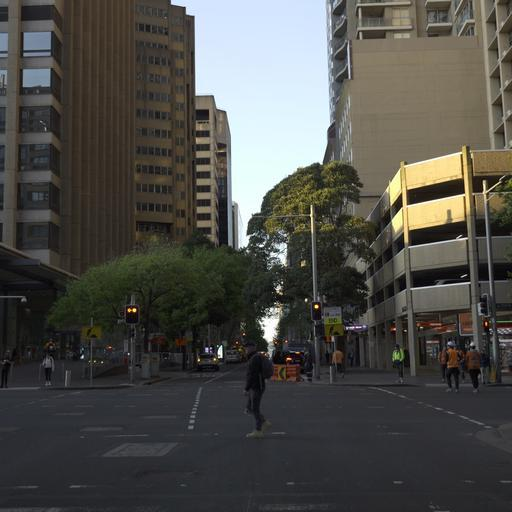Street light: (250, 202, 322, 380), (481, 171, 511, 383), (0, 293, 27, 359), (0, 294, 27, 303)
